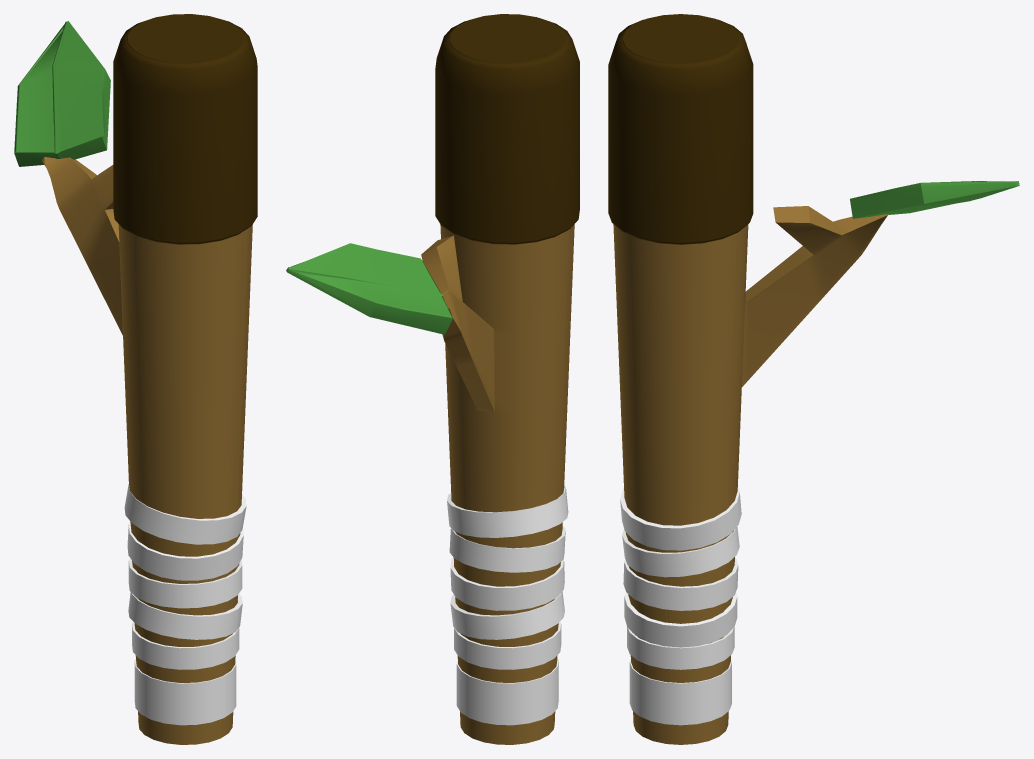
The model's file is torch.glb.
3 views of the same model, side by side, from view 1: azimuth 30°, elevation 25°; view 2: azimuth 150°, elevation 25°; view 3: azimuth 270°, elevation 25° (orthographic).
Bounding box in the file's own units: 2 × 10.44 × 5.67.
